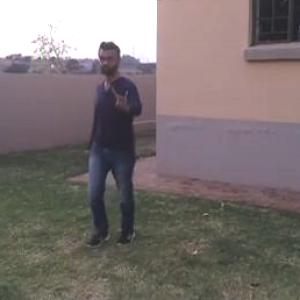takeoff-hand: (107, 82, 133, 110)
